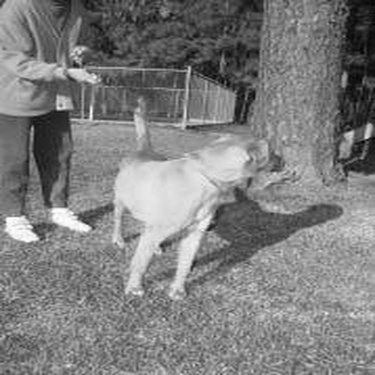dog: (111, 91, 288, 304)
